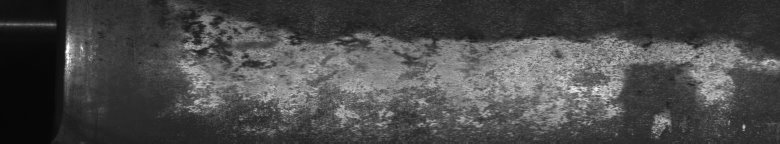kb: (156, 8, 776, 136)
